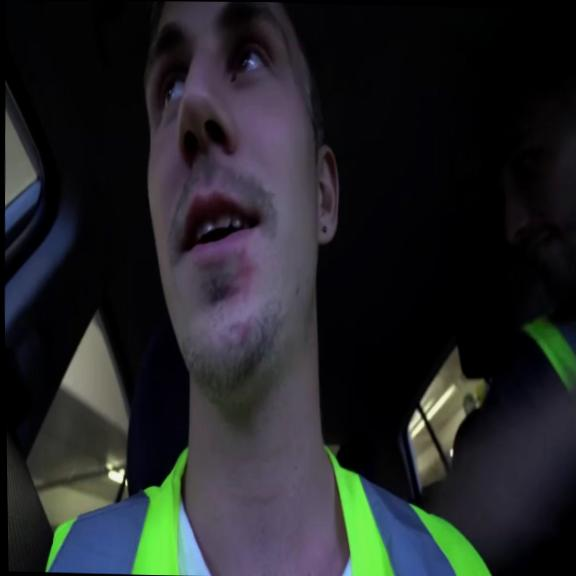safety_vest: (33, 436, 509, 576)
